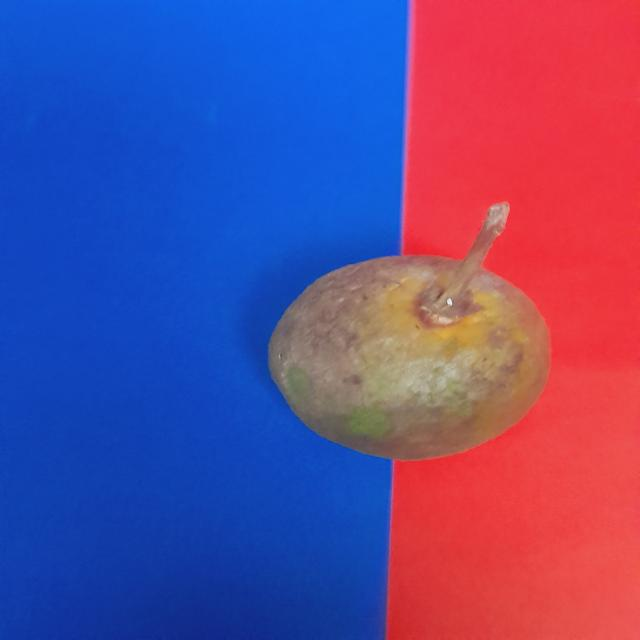thrips: (250, 238, 561, 480)
